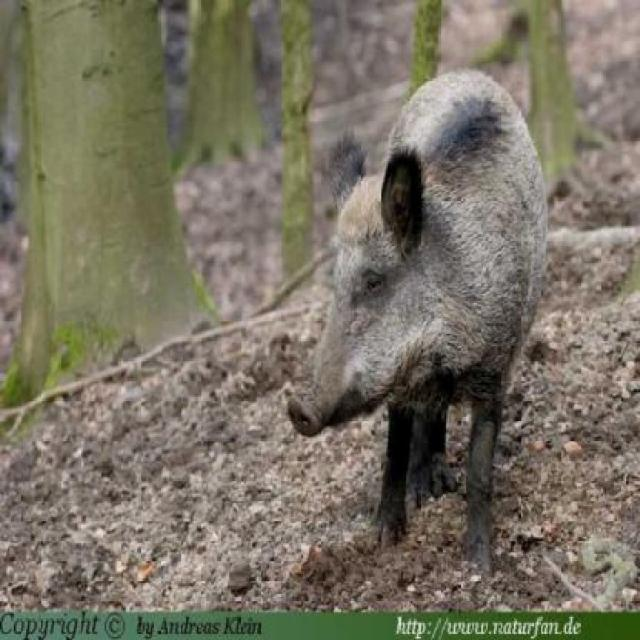pig: (278, 41, 564, 548)
